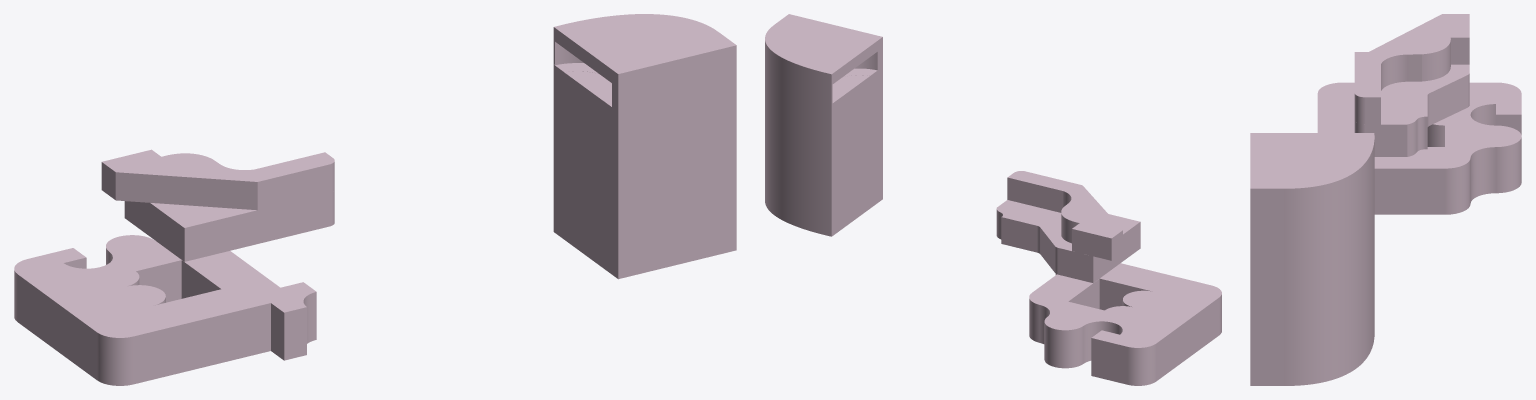
The model's file is guest_center.gltf.
The picture shows the model from 3 angles, left to right: view 1: azimuth 30°, elevation 25°; view 2: azimuth 150°, elevation 25°; view 3: azimuth 270°, elevation 25°; orthographic projection. The views are drawn at different scales.
Size of the model in its own units: 78.62 by 28.74 by 32.48.
